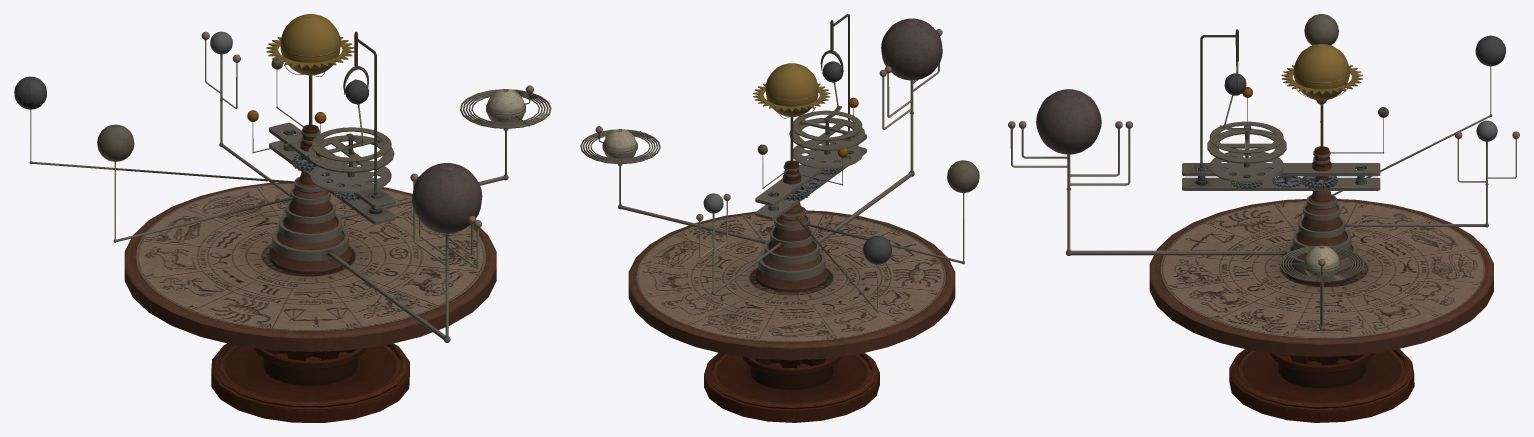
Rendered from orrery.glb.
The picture shows the model from 3 angles, left to right: view 1: azimuth 30°, elevation 25°; view 2: azimuth 150°, elevation 25°; view 3: azimuth 270°, elevation 25°; orthographic projection. The views are drawn at different scales.
Parts seen in each view (by area): view 1: OrreryTable, OrreryArms (×2); view 2: OrreryTable, OrreryArms (×2); view 3: OrreryTable, OrreryArms (×2).
Part boxes in pixels (<box>): OrreryTable: <box>124,75,496,422</box>; OrreryArms (×2): <box>14,14,551,342</box>; OrreryTable: <box>628,117,955,422</box>; OrreryArms (×2): <box>580,14,979,312</box>; OrreryTable: <box>1149,101,1493,422</box>; OrreryArms (×2): <box>1008,14,1519,330</box>.
Size of the model in its own units: 62.66 by 51.39 by 67.28.
2 materials, 2 textured.
